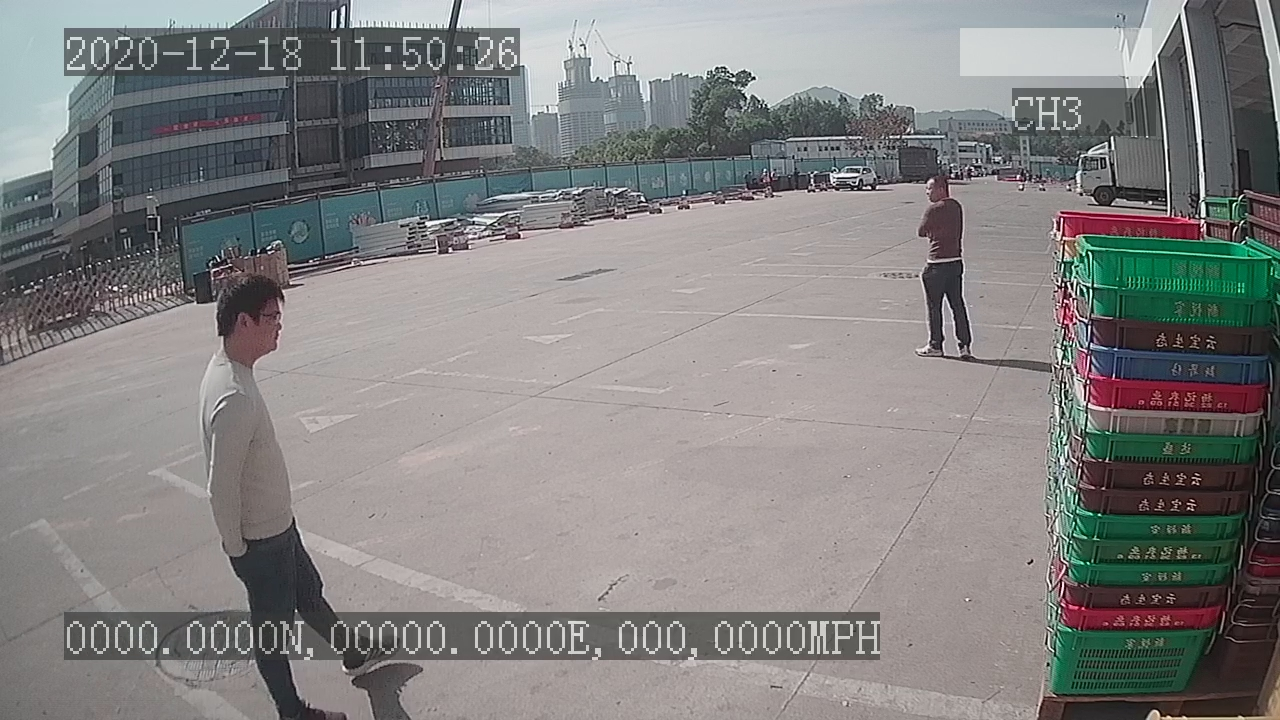person: (909, 174, 979, 363)
